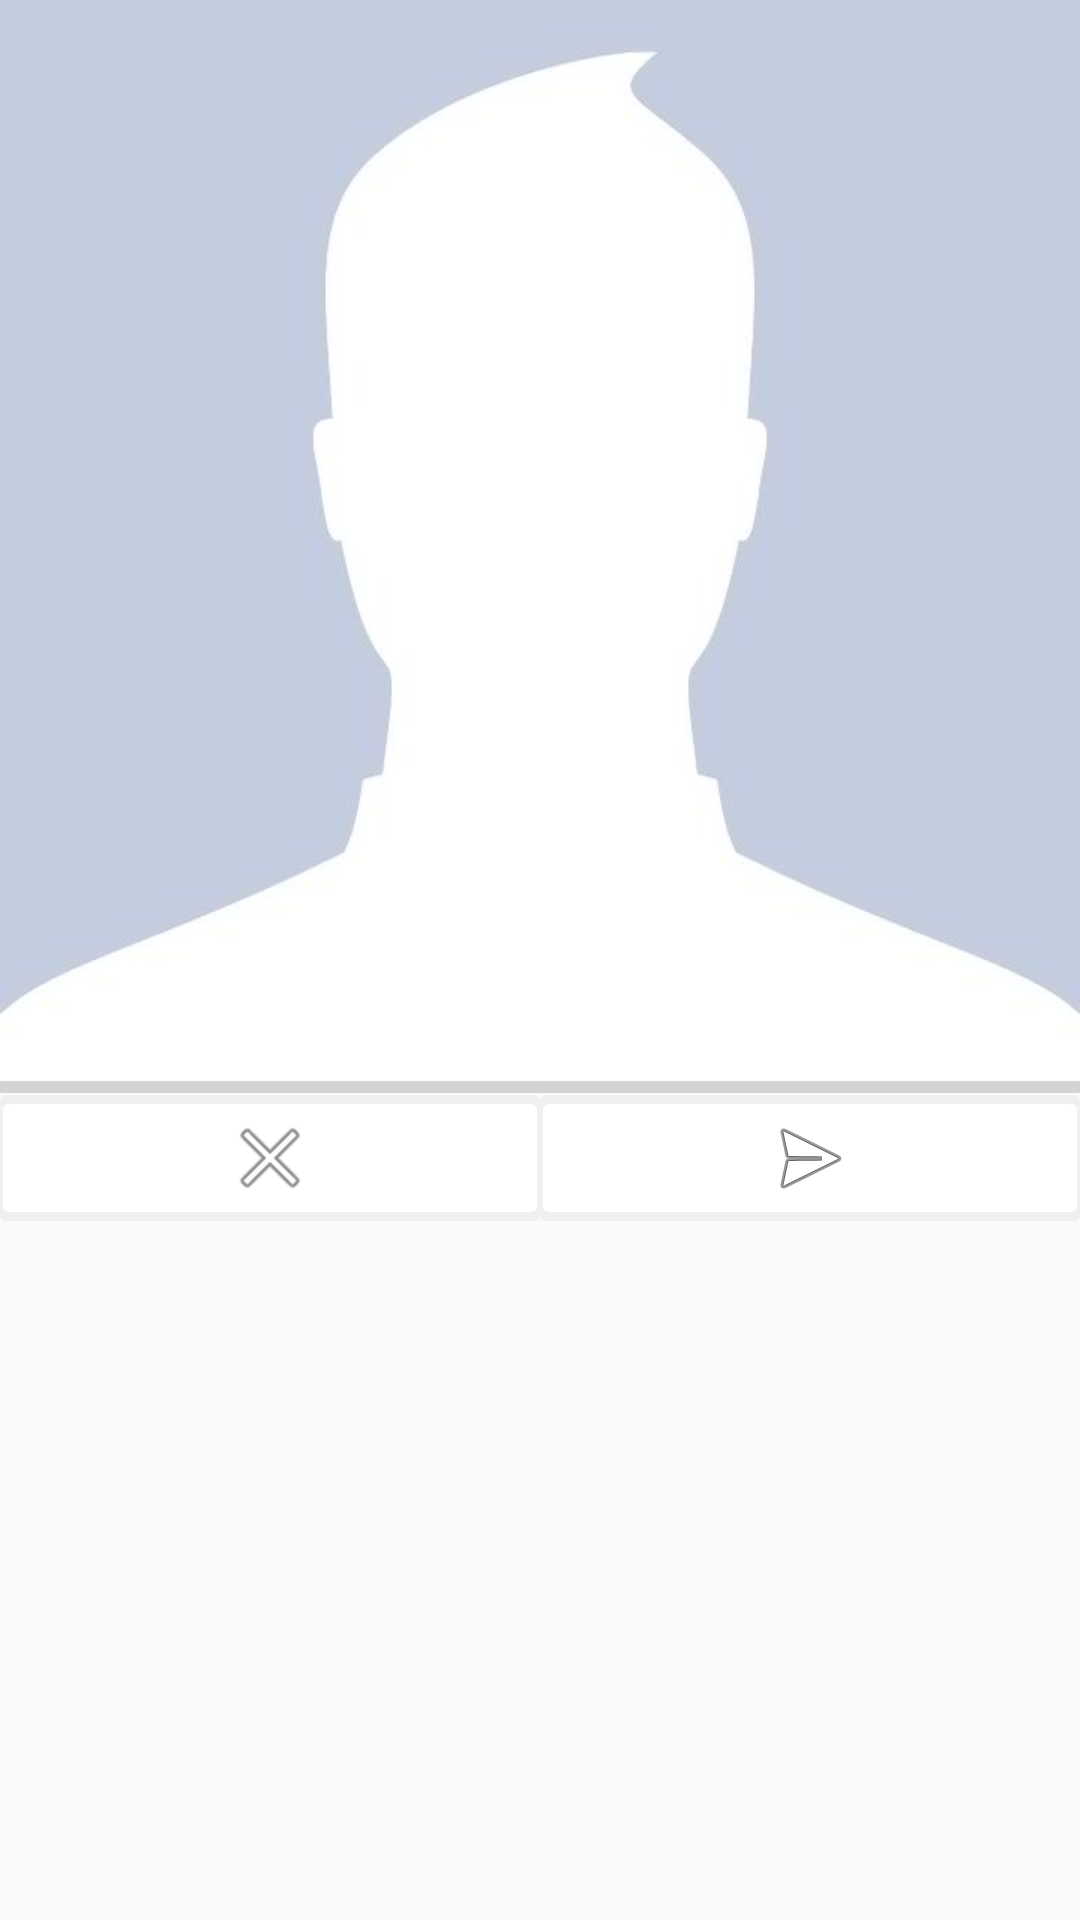

Named icons in this screenshot (1080×1920) and their centers, (x=x, y=y):
close clear cancel: (x=270, y=1158)
send: (x=811, y=1158)
